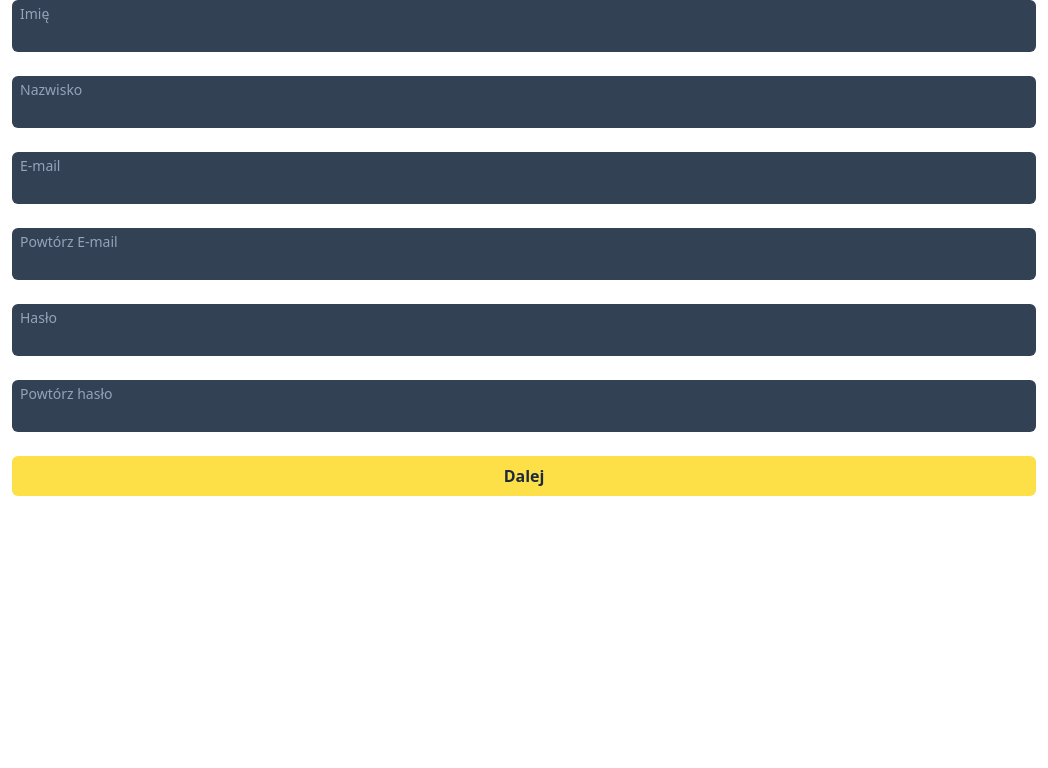
Test: Signup › show input problems
The image size is (1048, 768).
In the field with test id "firstname-input": (524, 36) [20,24,1028,48], type "a"
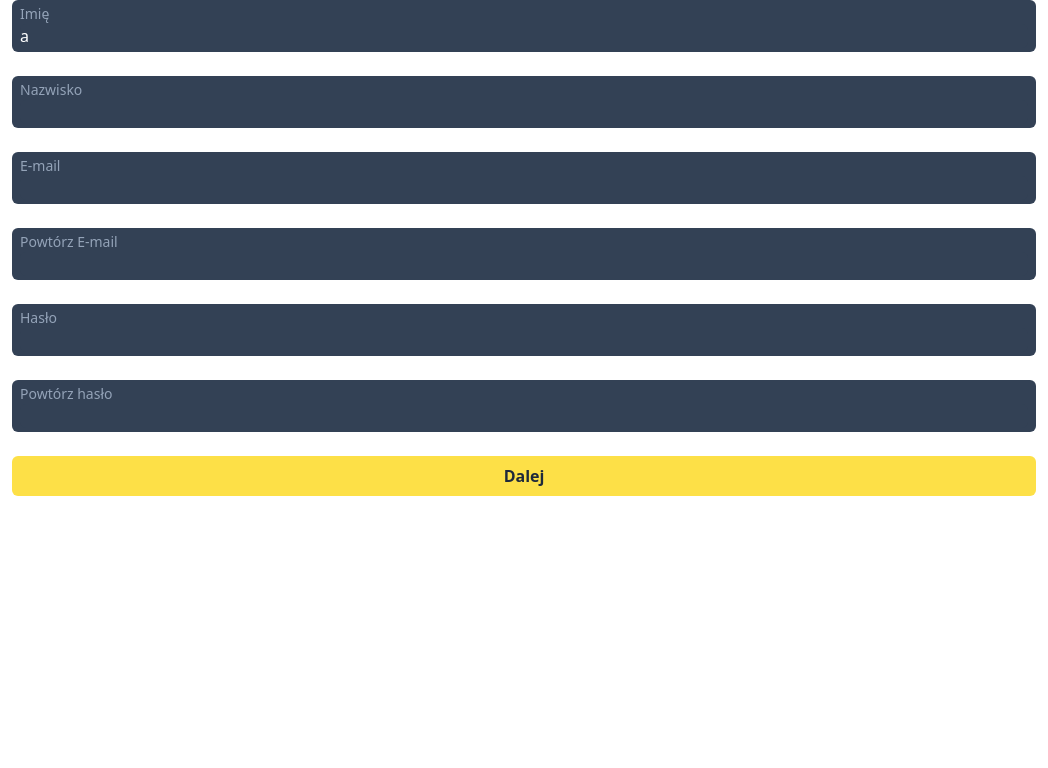
Click the button "Dalej": (524, 476) [12,456,1036,496]
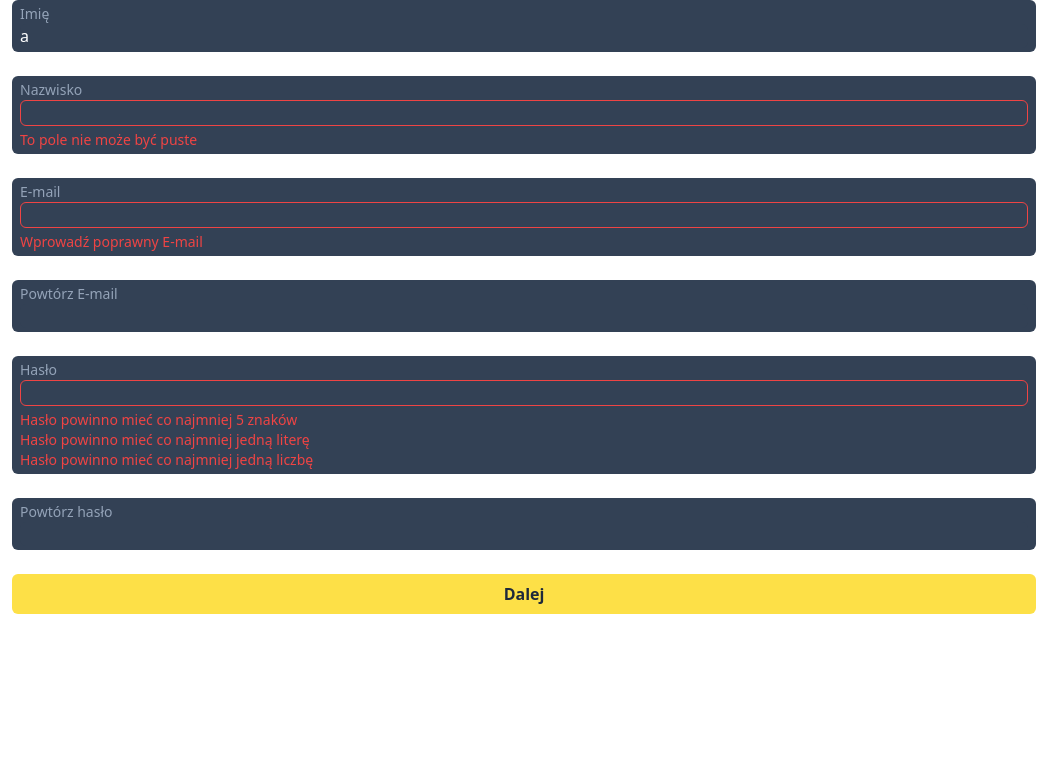
Now the text "To pole nie może być puste" is shown, box [20,130,197,149]
